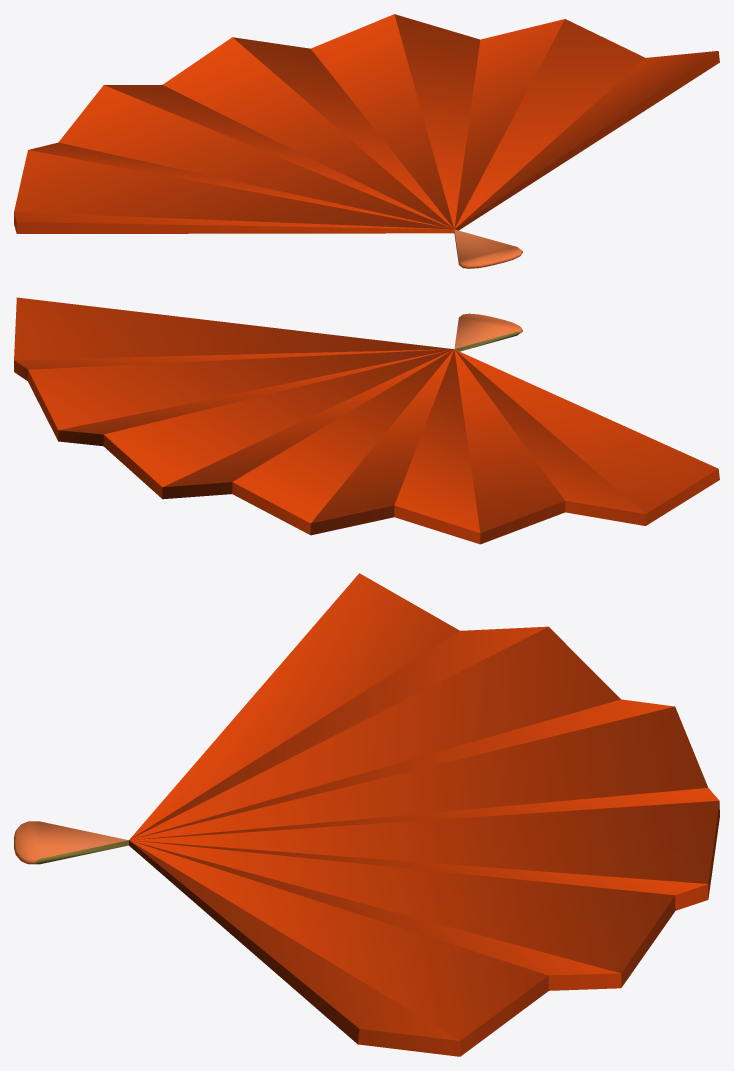
The model's file is MedievelToy.fbx.
3 views of the same model, one above another, from view 1: azimuth 30°, elevation 25°; view 2: azimuth 150°, elevation 25°; view 3: azimuth 270°, elevation 25° (orthographic). The views are drawn at different scales.
Parts seen in each view (by area): view 1: Circle; view 2: Circle; view 3: Circle.
Boxes of the visible parts, bbox=[...] form: Circle: bbox=[14, 14, 719, 268]; Circle: bbox=[14, 297, 719, 544]; Circle: bbox=[14, 573, 719, 1056].
Bounding box in the file's own units: 1.85 × 0.0966 × 1.21.
1 material, 1 textured.
